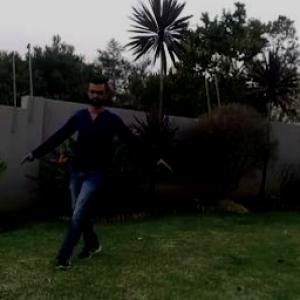land: (30, 76, 176, 254)
